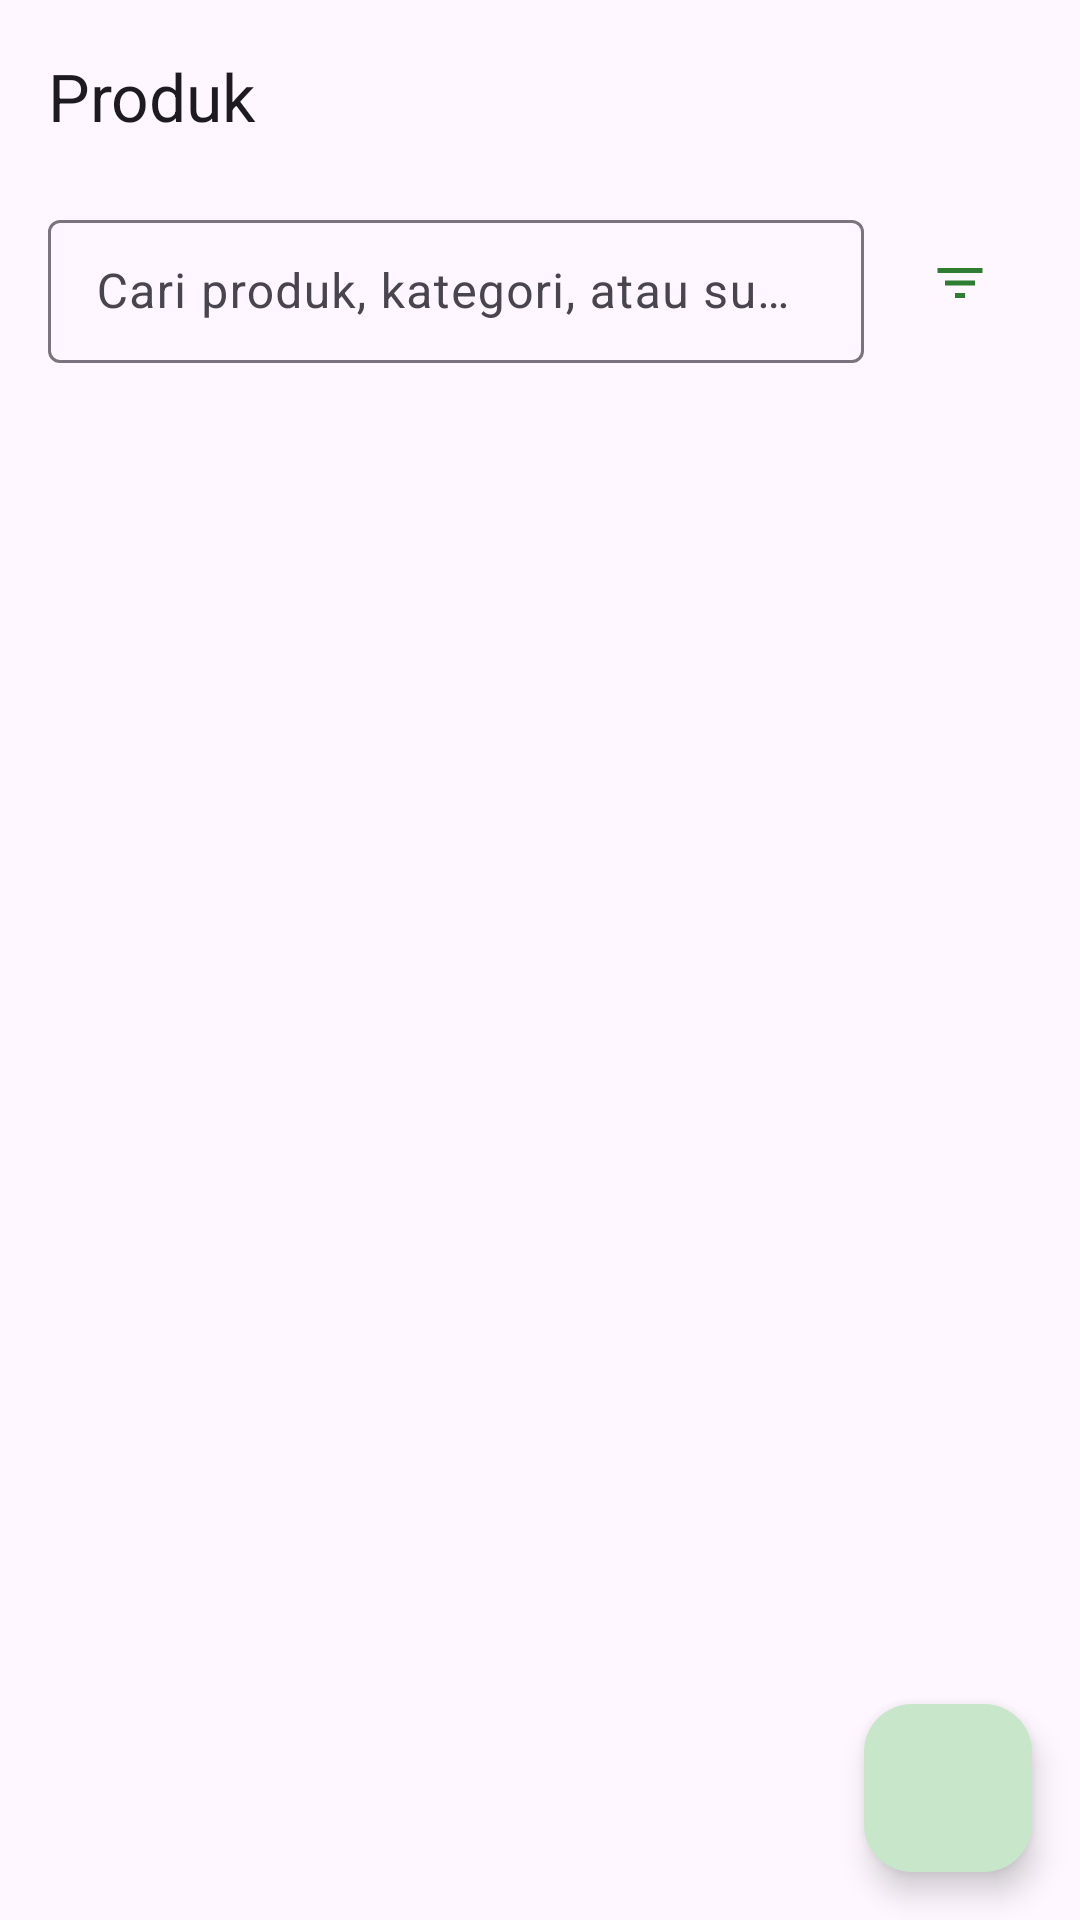

Where to tap for icons on this 1080px x 1920px app screen, as point (x, y):
Filter: point (960, 283)
